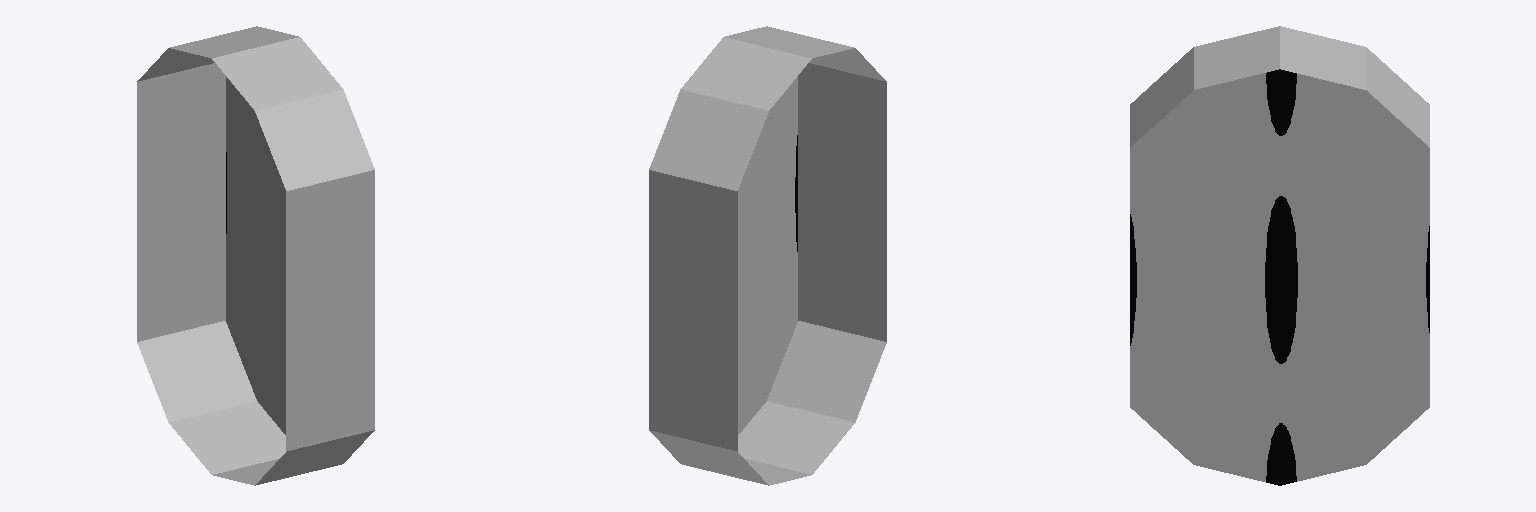
The picture shows the model from 3 angles: view 1: azimuth 30°, elevation 25°; view 2: azimuth 150°, elevation 25°; view 3: azimuth 270°, elevation 25°; orthographic projection.
Parts seen in each view (by area): view 1: coinslot; view 2: coinslot; view 3: coinslot.
Boxes of the visible parts, box(x1,y1,x2,y2) form: coinslot: box(137, 26, 374, 485); coinslot: box(649, 26, 886, 485); coinslot: box(1130, 26, 1429, 485).
Size of the model in its own units: 0.137 by 0.615 by 0.3999.
Materials: 1 (1 with a texture image).